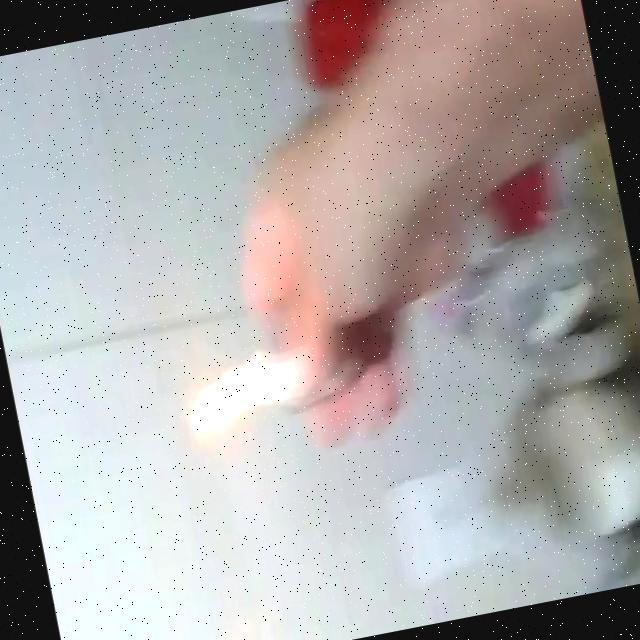fire: (180, 355, 271, 443)
